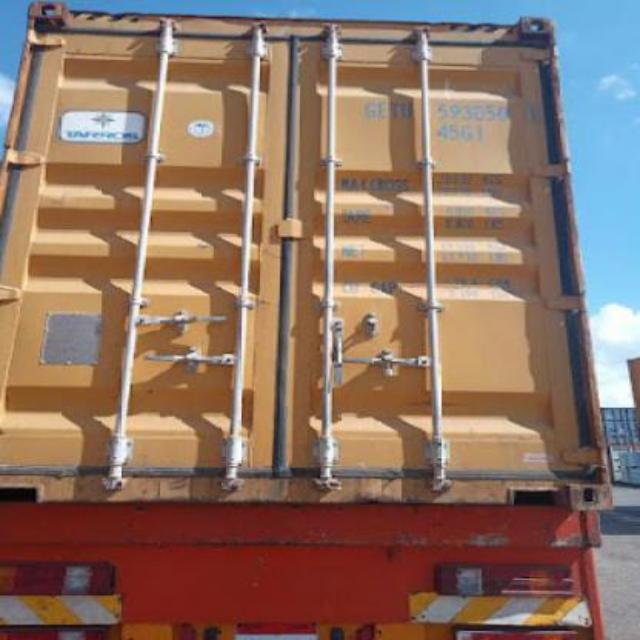0: (496, 105, 508, 122), (474, 104, 484, 120)
1: (520, 98, 538, 122)
3: (461, 105, 471, 122)
5: (436, 102, 448, 121), (485, 104, 495, 120)
9: (449, 104, 461, 120)
E: (378, 101, 388, 119)
G: (365, 100, 377, 120)
T: (390, 101, 400, 119)
U: (402, 101, 413, 119)
